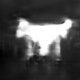plane: (13, 15, 79, 62)
